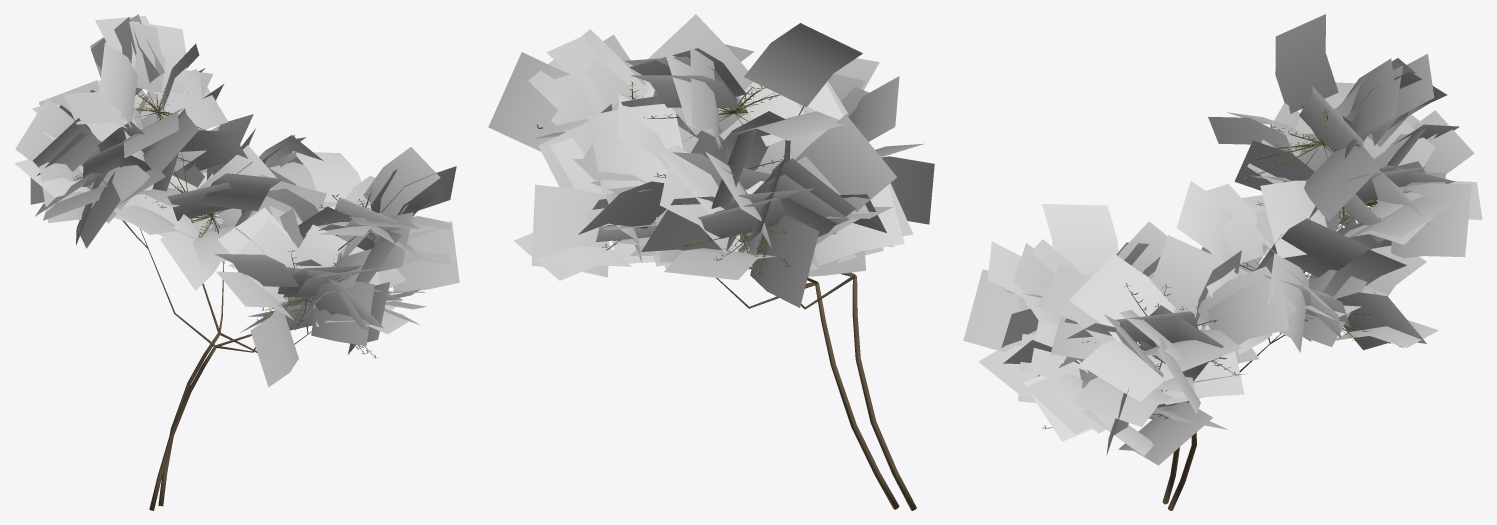
The model's file is Bruyere_Incline_LOD0.fbx.
3 views of the same model, side by side, from view 1: azimuth 30°, elevation 25°; view 2: azimuth 150°, elevation 25°; view 3: azimuth 270°, elevation 25° (orthographic). The views are drawn at different scales.
Visible parts, largest first — view 1: Bruyere_Incline; view 2: Bruyere_Incline; view 3: Bruyere_Incline.
Part boxes in pixels (x1,y1,x2,y2): Bruyere_Incline: (14, 14, 459, 510); Bruyere_Incline: (488, 14, 934, 510); Bruyere_Incline: (963, 14, 1482, 510).
Size of the model in its own units: 260 by 282 by 265.
